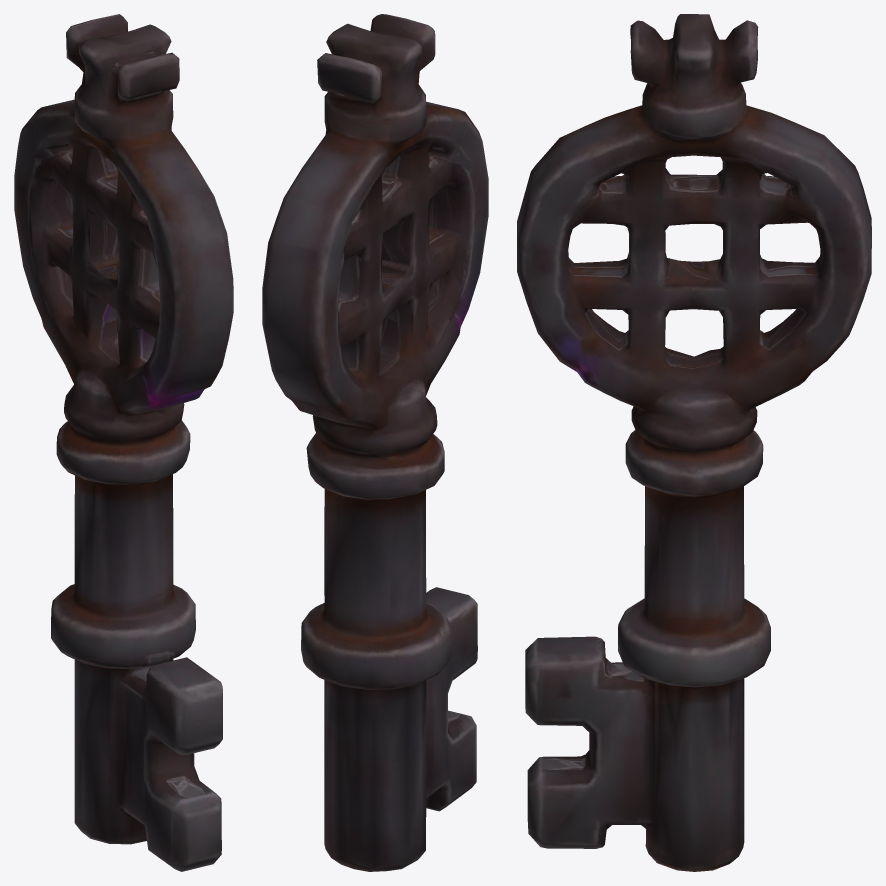
Rendered from key.glb.
3 renders of one model, left to right at view 1: azimuth 30°, elevation 25°; view 2: azimuth 150°, elevation 25°; view 3: azimuth 270°, elevation 25°, orthographic. The views are drawn at different scales.
Visible parts, largest first — view 1: key; view 2: key; view 3: key.
Boxes of the visible parts, x1,y1,x2,y2 form: key: (14, 14, 233, 871); key: (262, 14, 488, 871); key: (517, 14, 871, 871).
Size of the model in its own units: 0.0255 by 0.1509 by 0.0589.
Materials: 1 (1 with a texture image).
